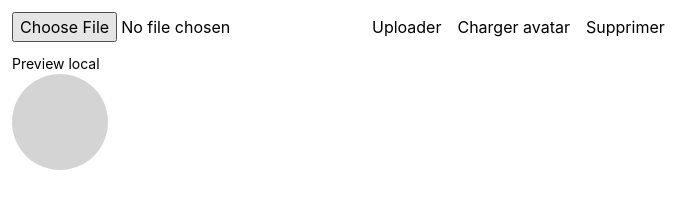
it: ProfileAvatar › shows validation error for unsupported mime
The image size is (682, 219).
Earlier steps of the test are not shown.
Click the button "Uploader" at (407, 27), box [372,15,442,39]
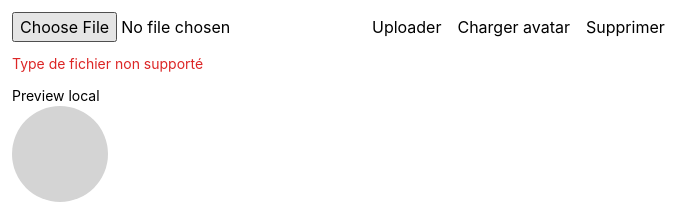
expect the text "Type de fichier non supporté" is shown: met, box [12,55,203,72]
